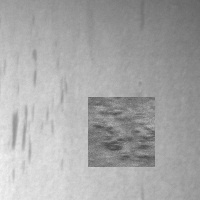inclusion: (6, 101, 37, 166), (133, 97, 152, 151), (27, 43, 44, 94), (134, 1, 149, 34)
rolled-in_scale: (88, 97, 155, 167)
